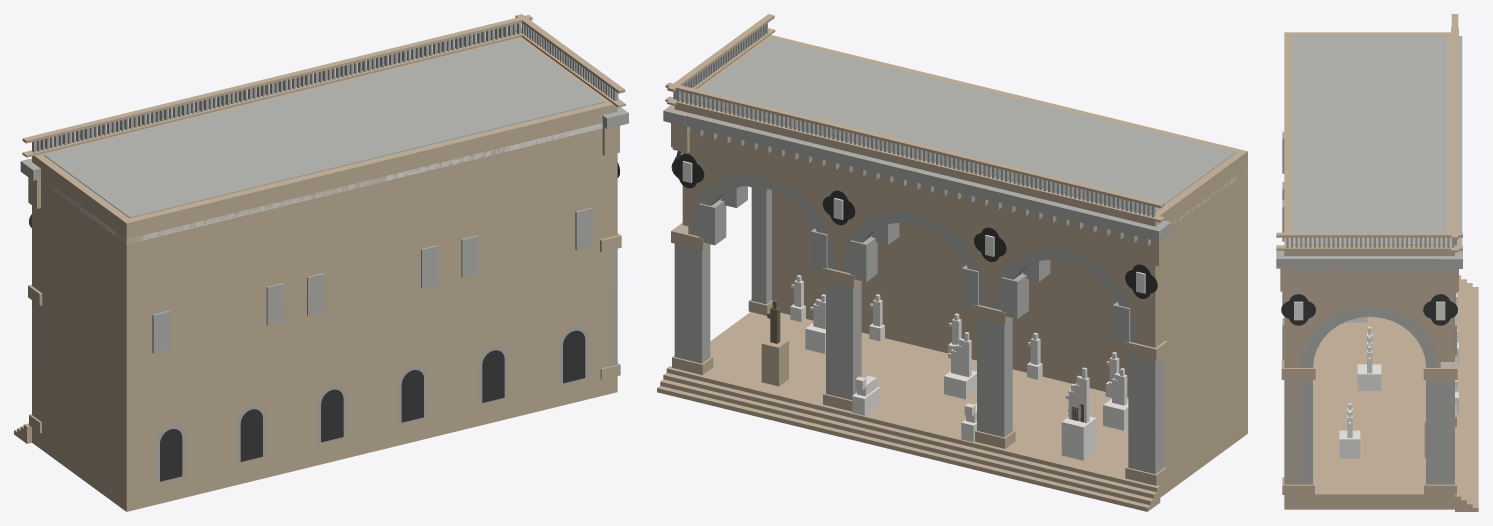
File: loggia_lanzi.glb
3 renders of one model, left to right at view 1: azimuth 30°, elevation 25°; view 2: azimuth 150°, elevation 25°; view 3: azimuth 270°, elevation 25°, orthographic. The views are drawn at different scales.
Parts seen in each view (by area): view 1: loggia@1376-99999.stone, loggia@1376-99999.serena, terrace@1585-99999.stone, terrace@1585-99999.serena, loggia@1376-99999.dark, loggia@1376-99999.white; view 2: loggia@1376-99999.stone, loggia@1376-99999.serena, terrace@1585-99999.stone, terrace@1585-99999.serena, virtues@1384-99999.dark, matrons@1789-99999.marble, sabines@1583-99999.white, perseus@1554-99999.stone, matrons@1789-99999.white, sabines@1583-99999.marble, virtues@1384-99999.marble, lions@1789-99999.white (+3 smaller); view 3: loggia@1376-99999.serena, loggia@1376-99999.stone, terrace@1585-99999.stone, virtues@1384-99999.dark, terrace@1585-99999.serena, polyxena@1865-99999.white, menelaus@1838-99999.white, virtues@1384-99999.marble, polyxena@1865-99999.marble.
Boxes of the visible parts, x1,y1,x2,y2 form: loggia@1376-99999.stone: [14, 37, 621, 511]; loggia@1376-99999.serena: [20, 38, 628, 483]; terrace@1585-99999.stone: [22, 14, 625, 157]; terrace@1585-99999.serena: [32, 23, 618, 152]; loggia@1376-99999.dark: [160, 330, 585, 481]; loggia@1376-99999.white: [42, 123, 602, 244]; loggia@1376-99999.stone: [657, 35, 1247, 511]; loggia@1376-99999.serena: [663, 38, 1236, 474]; terrace@1585-99999.stone: [665, 14, 1164, 222]; terrace@1585-99999.serena: [673, 23, 1155, 217]; virtues@1384-99999.dark: [671, 151, 1157, 298]; matrons@1789-99999.marble: [791, 275, 1119, 381]; sabines@1583-99999.white: [1061, 416, 1096, 460]; perseus@1554-99999.stone: [761, 337, 788, 386]; matrons@1789-99999.white: [790, 304, 1111, 397]; sabines@1583-99999.marble: [1065, 367, 1089, 422]; virtues@1384-99999.marble: [680, 152, 1145, 293]; lions@1789-99999.white: [852, 387, 976, 442]; loggia@1376-99999.serena: [1276, 35, 1462, 484]; loggia@1376-99999.stone: [1280, 32, 1478, 511]; terrace@1585-99999.stone: [1276, 14, 1462, 252]; virtues@1384-99999.dark: [1281, 294, 1457, 325]; terrace@1585-99999.serena: [1286, 237, 1456, 247]; polyxena@1865-99999.white: [1357, 364, 1381, 390]; menelaus@1838-99999.white: [1339, 430, 1360, 458]; virtues@1384-99999.marble: [1294, 293, 1457, 320]; polyxena@1865-99999.marble: [1367, 326, 1372, 373].
Size of the model in its own units: 40.2 by 23.15 by 15.4.
